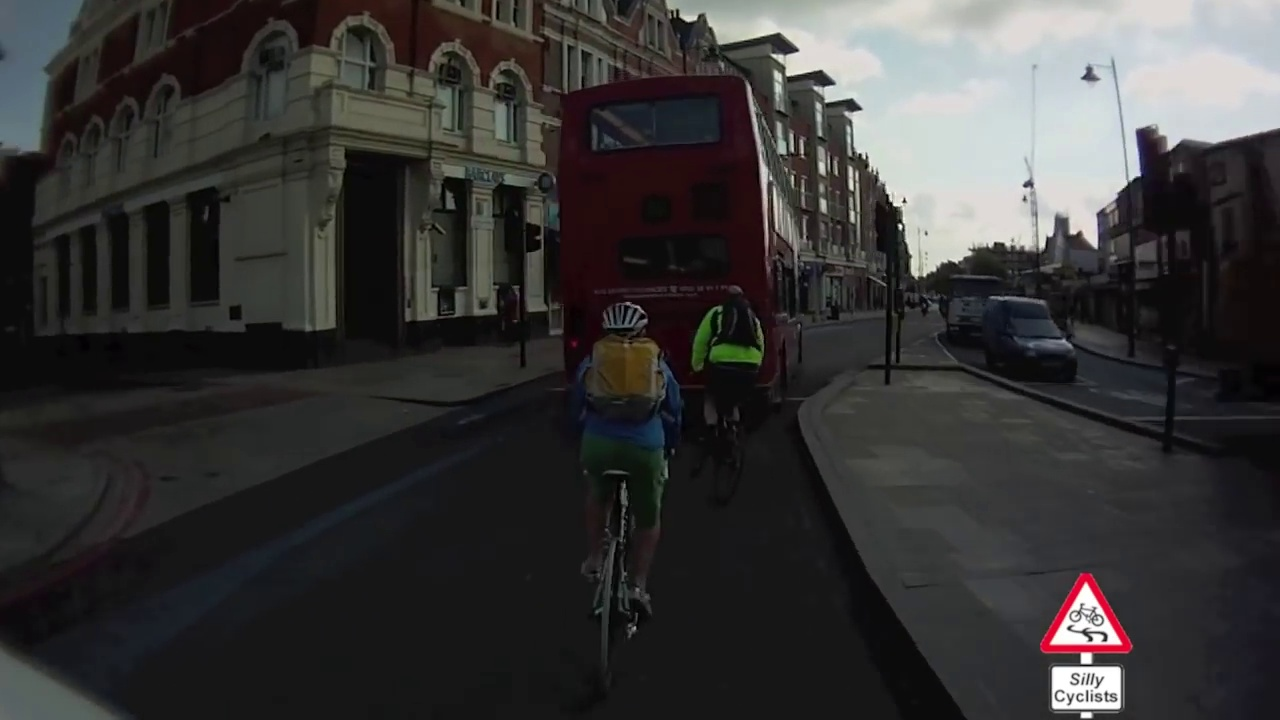cyclist_back: (566, 300, 679, 672), (688, 282, 776, 504)
